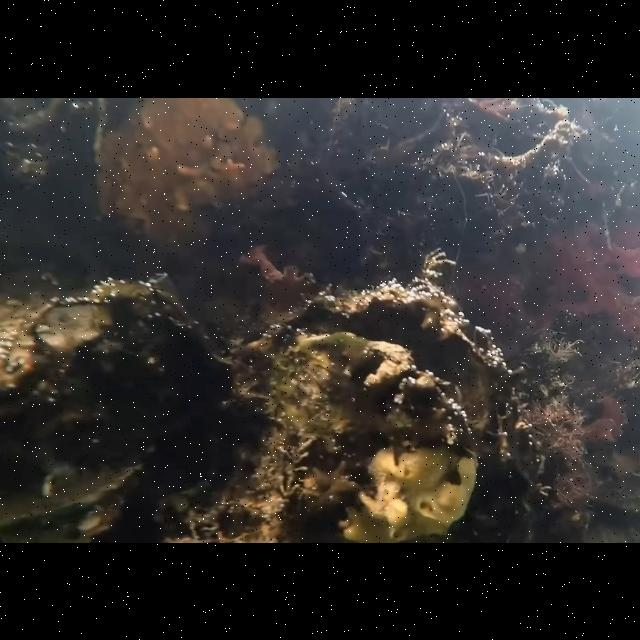Oyster-Closed: (94, 97, 280, 256)
Oyster-Open: (228, 280, 494, 542), (0, 280, 156, 426), (0, 462, 144, 542)
